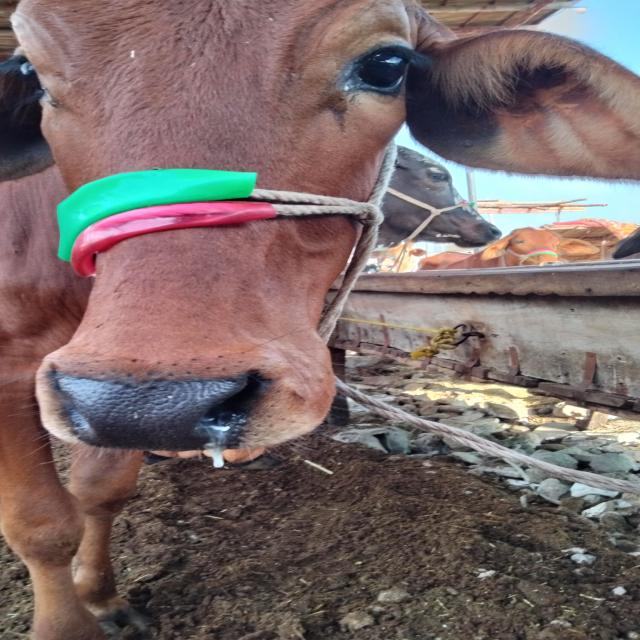muzzles: (25, 356, 308, 462)
